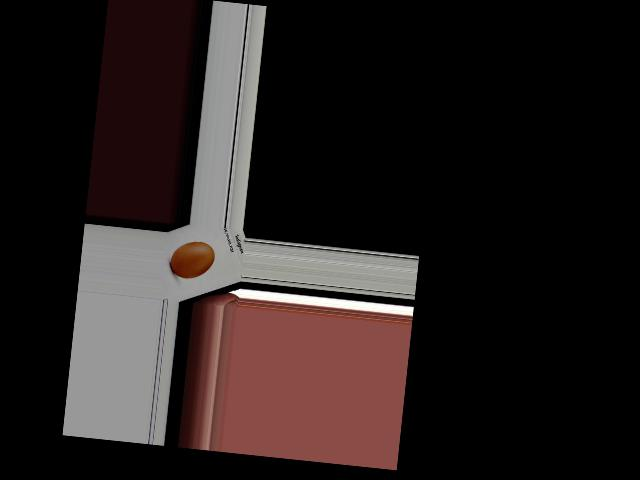egg: (168, 239, 215, 281)
